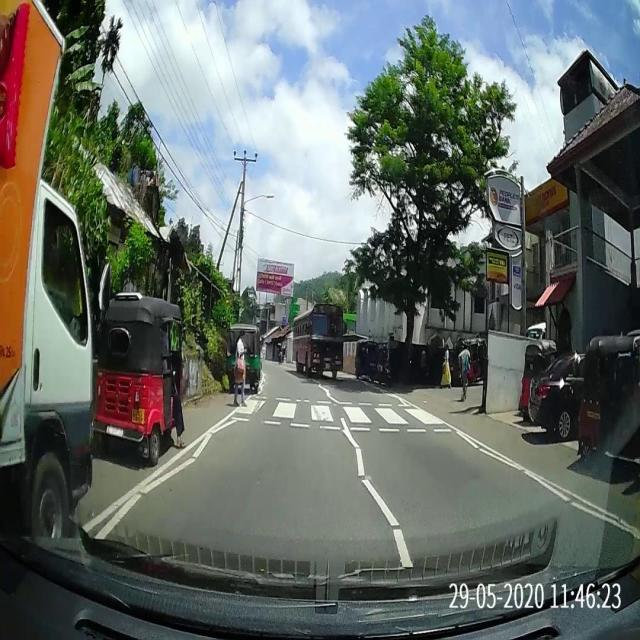Crosswalk: (233, 399, 447, 426)
